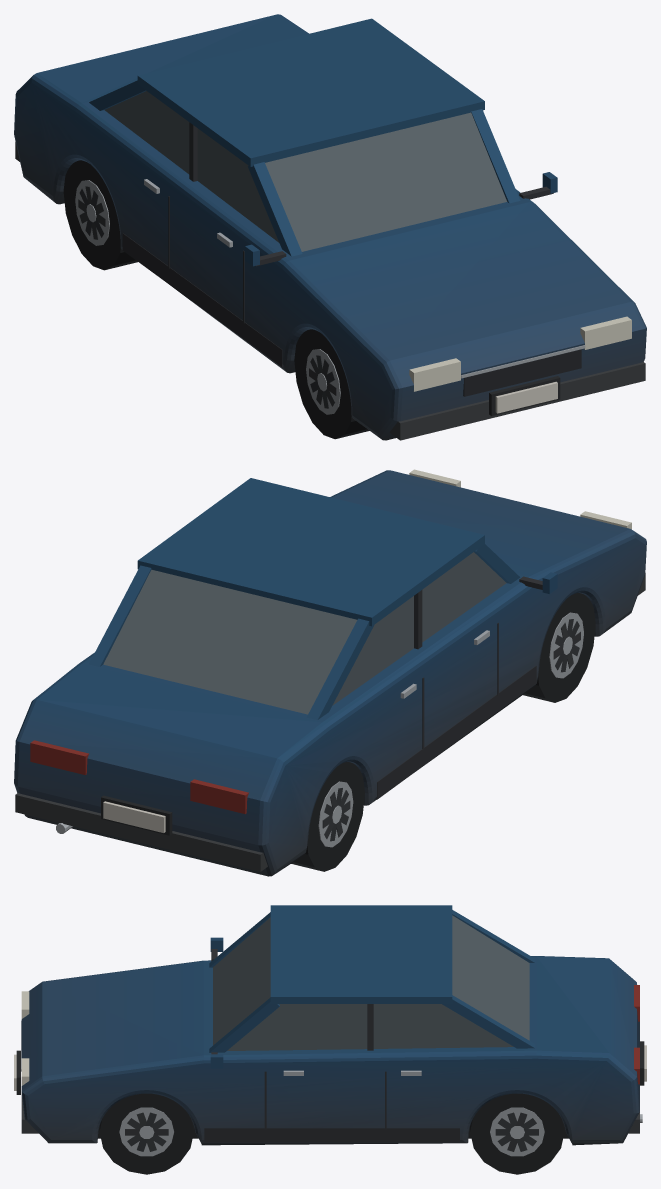
Rendered from family-sedan.glb.
The picture shows the model from 3 angles, top to bottom: view 1: azimuth 30°, elevation 25°; view 2: azimuth 150°, elevation 25°; view 3: azimuth 270°, elevation 25°; orthographic projection. The views are drawn at different scales.
Visible parts, largest first — view 1: family_sedan; view 2: family_sedan; view 3: family_sedan.
Boxes of the visible parts, x1=… form: family_sedan: x1=14, y1=14, x2=646, y2=440; family_sedan: x1=14, y1=469, x2=646, y2=876; family_sedan: x1=14, y1=905, x2=646, y2=1174.
Size of the model in its own units: 1.39 by 0.9576 by 3.12.
